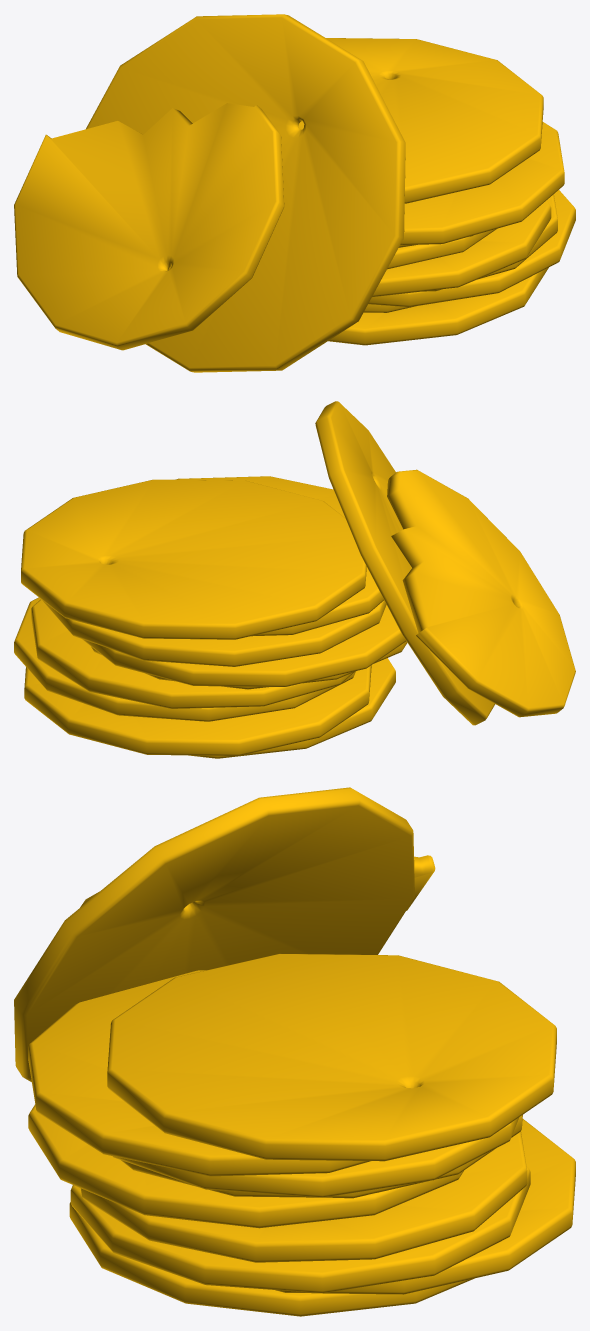
File: Sopaipilla_v02.glb
3 renders of one model, top to bottom at view 1: azimuth 30°, elevation 25°; view 2: azimuth 150°, elevation 25°; view 3: azimuth 270°, elevation 25°, orthographic. The views are drawn at different scales.
Parts seen in each view (by area): view 1: Sopaipilla.008, Sopaipilla.009, Sopaipilla.010, Sopaipilla.007, Sopaipilla, Sopaipilla.004, Sopaipilla.002, Sopaipilla.005, Sopaipilla.003; view 2: Sopaipilla.010, Sopaipilla.009, Sopaipilla.001, Sopaipilla.008, Sopaipilla.003, Sopaipilla.005, Sopaipilla.006, Sopaipilla.002, Sopaipilla.007, Sopaipilla, Sopaipilla.004; view 3: Sopaipilla.010, Sopaipilla.008, Sopaipilla.003, Sopaipilla.007, Sopaipilla.002, Sopaipilla.004, Sopaipilla.001, Sopaipilla.006, Sopaipilla, Sopaipilla.005, Sopaipilla.009.
Boxes of the visible parts, left/top/right/bottom form: Sopaipilla.008: left=86, top=14, right=405, bottom=372; Sopaipilla.009: left=14, top=103, right=284, bottom=350; Sopaipilla.010: left=298, top=38, right=543, bottom=203; Sopaipilla.007: left=400, top=122, right=564, bottom=245; Sopaipilla: left=328, top=267, right=548, bottom=345; Sopaipilla.004: left=372, top=200, right=551, bottom=297; Sopaipilla.002: left=368, top=190, right=575, bottom=307; Sopaipilla.005: left=387, top=229, right=496, bottom=269; Sopaipilla.003: left=423, top=194, right=557, bottom=291; Sopaipilla.010: left=21, top=479, right=366, bottom=639; Sopaipilla.009: left=387, top=469, right=575, bottom=717; Sopaipilla.001: left=24, top=665, right=371, bottom=755; Sopaipilla.008: left=315, top=401, right=495, bottom=725; Sopaipilla.003: left=31, top=599, right=354, bottom=708; Sopaipilla.005: left=82, top=605, right=406, bottom=686; Sopaipilla.006: left=41, top=599, right=386, bottom=666; Sopaipilla.002: left=14, top=597, right=355, bottom=721; Sopaipilla.007: left=176, top=476, right=383, bottom=636; Sopaipilla: left=188, top=658, right=395, bottom=758; Sopaipilla.004: left=91, top=641, right=407, bottom=689; Sopaipilla.010: left=107, top=953, right=556, bottom=1161; Sopaipilla.008: left=14, top=787, right=414, bottom=1082; Sopaipilla.003: left=80, top=1131, right=527, bottom=1262; Sopaipilla.007: left=28, top=970, right=370, bottom=1176; Sopaipilla.002: left=70, top=1166, right=530, bottom=1293; Sopaipilla.004: left=28, top=1104, right=463, bottom=1228; Sopaipilla.001: left=275, top=1119, right=575, bottom=1294; Sopaipilla.006: left=112, top=1117, right=519, bottom=1197; Sopaipilla: left=69, top=1202, right=474, bottom=1316; Sopaipilla.005: left=121, top=1115, right=522, bottom=1198; Sopaipilla.009: left=80, top=855, right=435, bottom=910.
Bounding box in the file's own units: 3.26 × 1.8 × 2.43.
